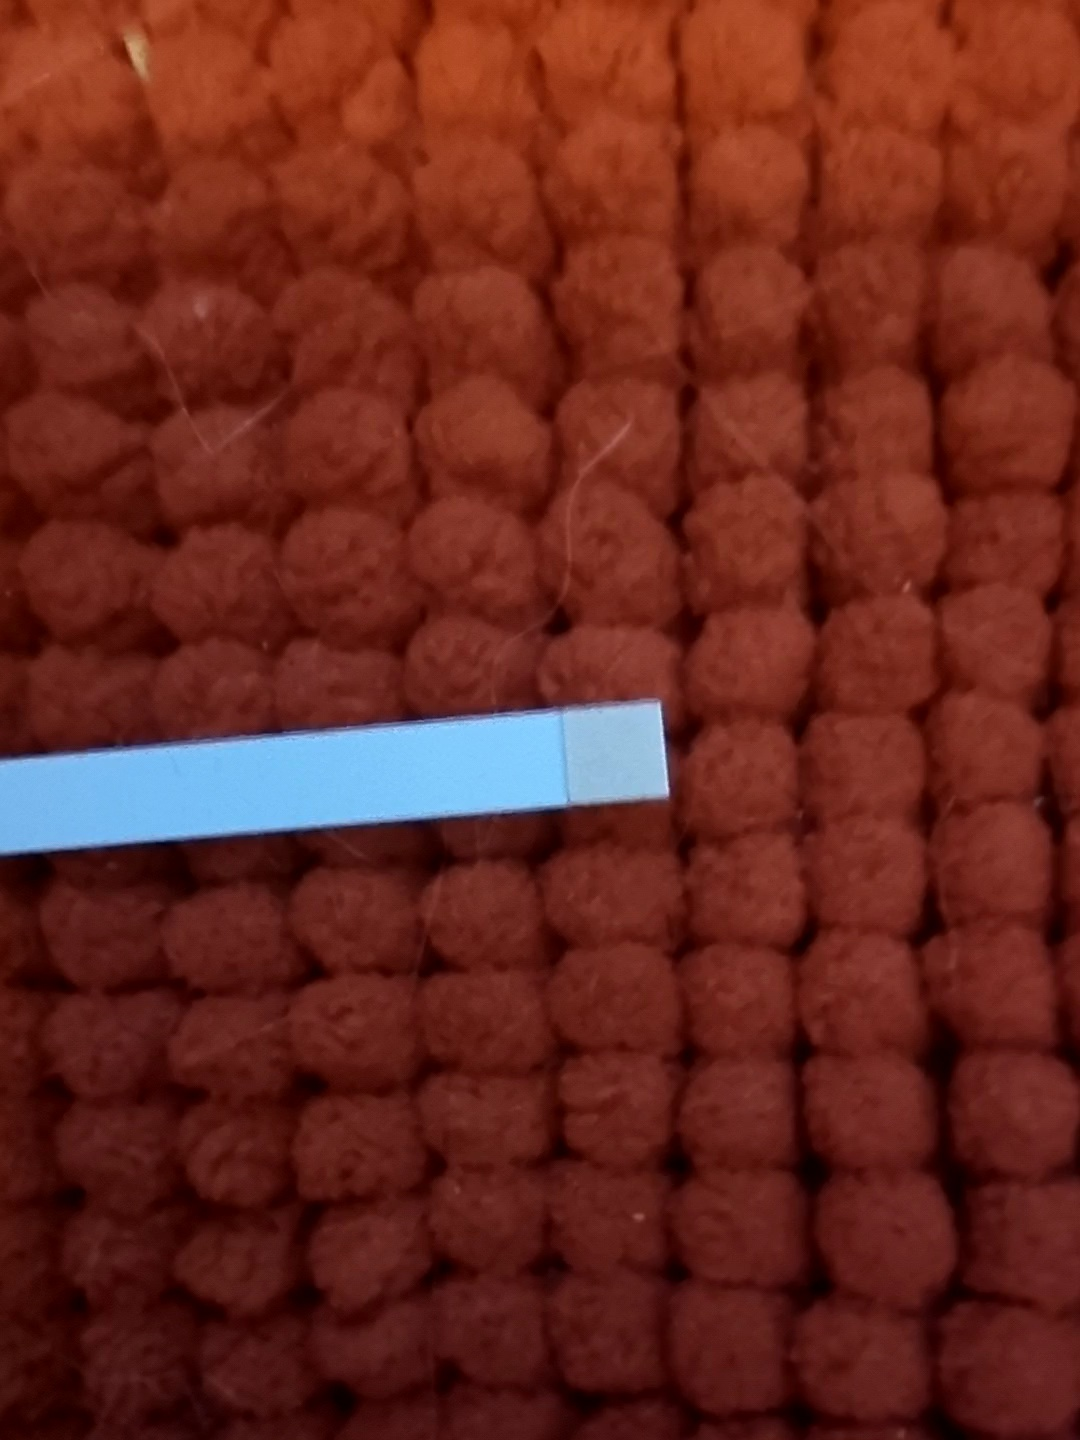keto-tip: (552, 698, 675, 811)
